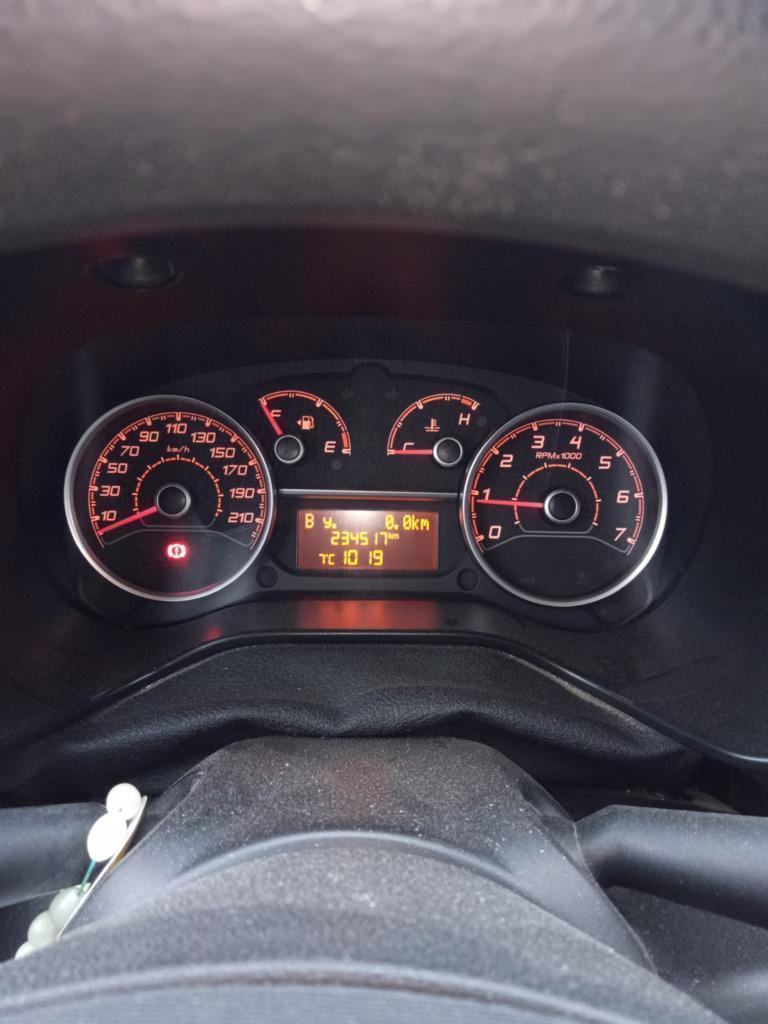,: (393, 523, 399, 530), (331, 522, 337, 528)
0: (347, 547, 358, 565), (402, 513, 411, 530), (384, 513, 393, 529)
1: (373, 530, 378, 547), (368, 548, 371, 566), (343, 549, 346, 565)
2: (330, 530, 339, 545)
3: (340, 530, 348, 545)
4: (349, 530, 359, 545)
5: (359, 530, 368, 546)
7: (379, 530, 387, 545), (318, 552, 325, 565)
9: (373, 548, 383, 565)
X: (304, 511, 315, 529), (411, 513, 420, 530), (420, 517, 430, 530), (322, 516, 332, 529), (328, 552, 335, 565), (388, 531, 393, 541), (392, 533, 399, 540)
odometer: (295, 506, 442, 574)
